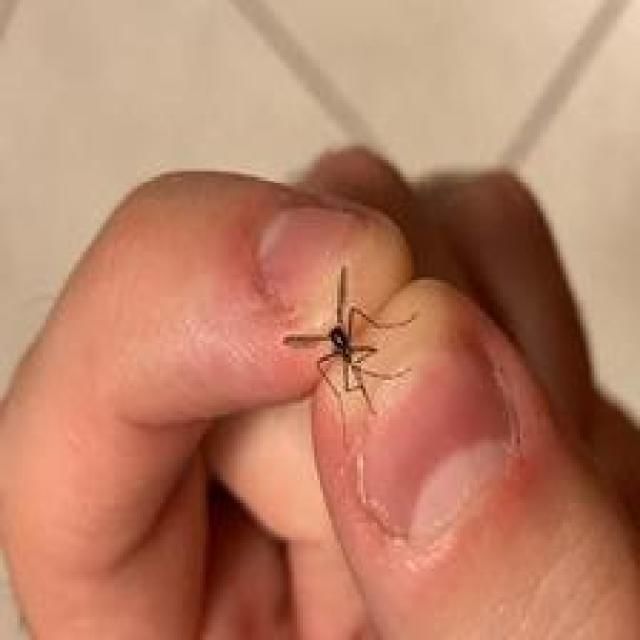Aedes albopictus: (280, 264, 417, 430)
